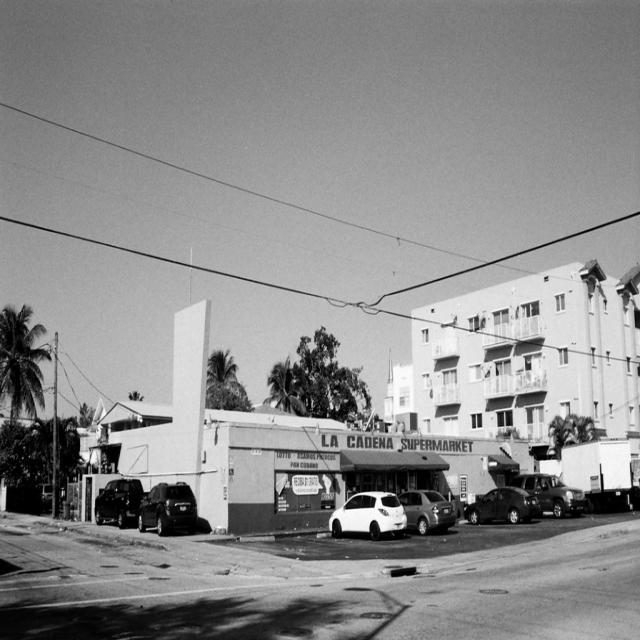car: (325, 485, 407, 537), (465, 482, 544, 525), (138, 481, 196, 538)
